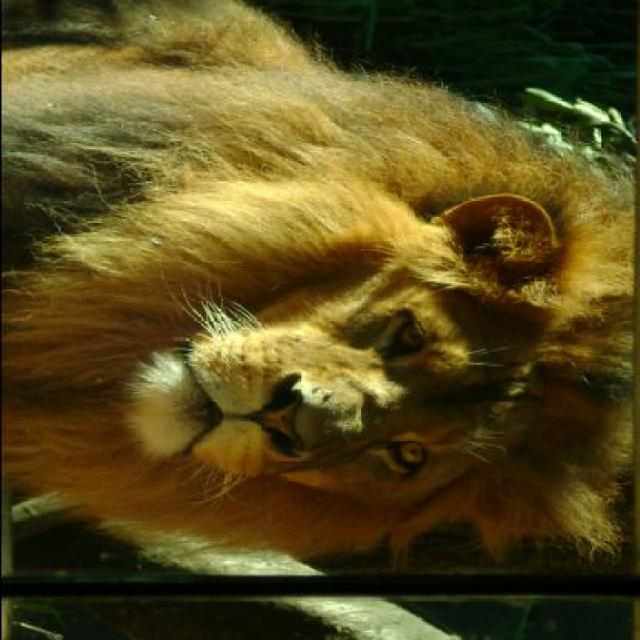Lion: (2, 70, 636, 602)
